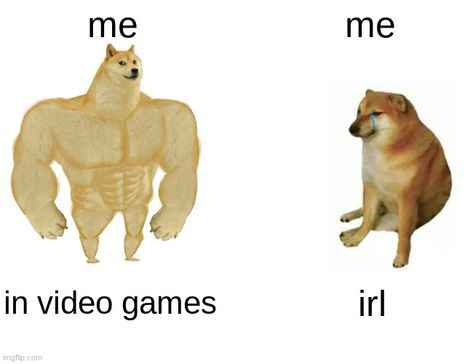doge: (345, 86, 414, 144), (96, 43, 146, 91)
